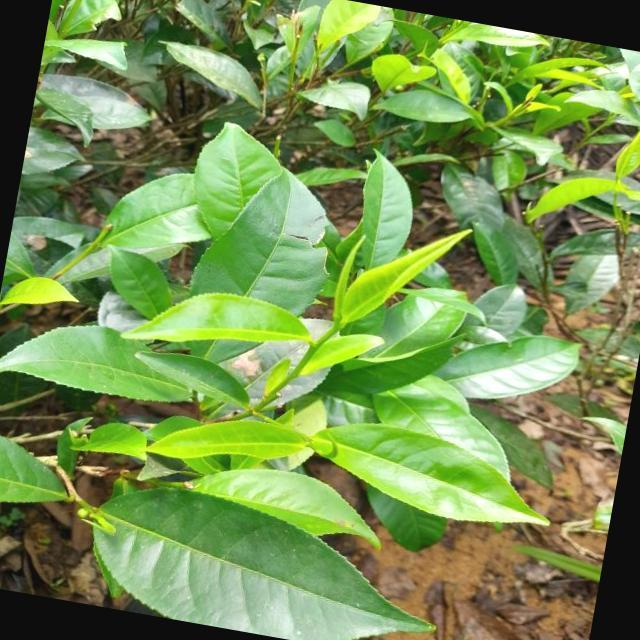Stem: (334, 325, 340, 330)
